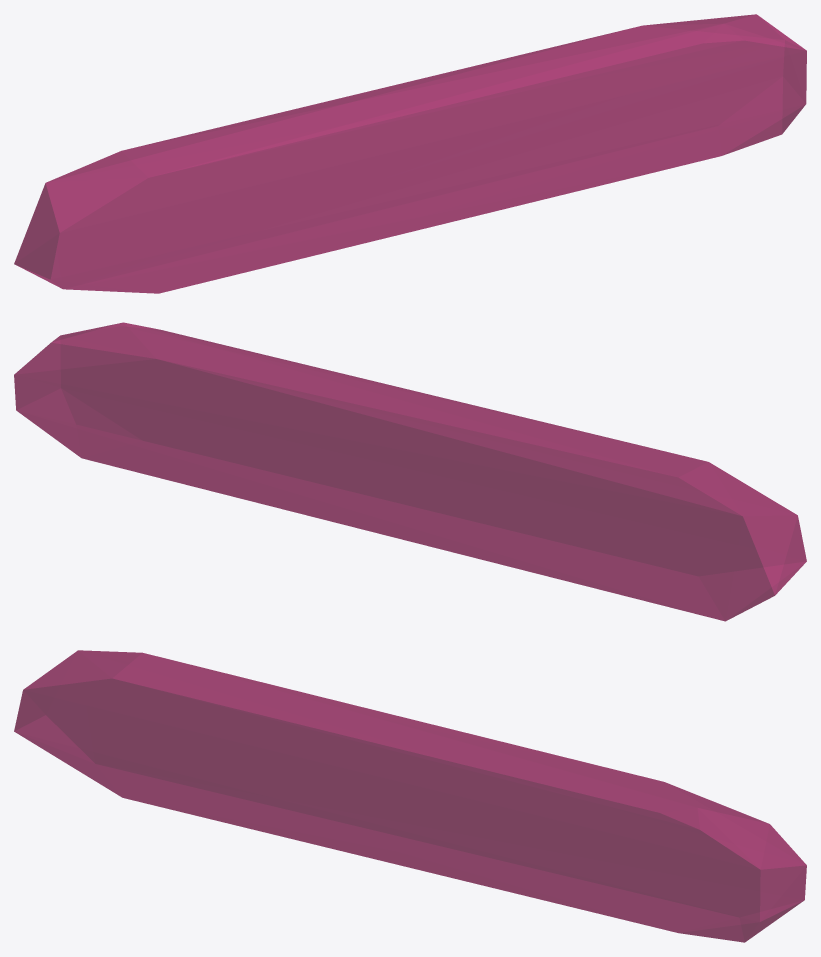
3 renders of one model, top to bottom at view 1: azimuth 30°, elevation 25°; view 2: azimuth 150°, elevation 25°; view 3: azimuth 330°, elevation 25°, orthographic.
Visible parts, largest first — view 1: Shape_IndexedFaceSet.155_Shape_IndexedFaceSet.584; view 2: Shape_IndexedFaceSet.155_Shape_IndexedFaceSet.584; view 3: Shape_IndexedFaceSet.155_Shape_IndexedFaceSet.584.
Part boxes in pixels (x1,y1,x2,y2): Shape_IndexedFaceSet.155_Shape_IndexedFaceSet.584: (14, 14, 806, 293); Shape_IndexedFaceSet.155_Shape_IndexedFaceSet.584: (14, 322, 806, 621); Shape_IndexedFaceSet.155_Shape_IndexedFaceSet.584: (14, 650, 806, 942).
Bounding box in the file's own units: 0.3704 × 0.0594 × 0.0291.
